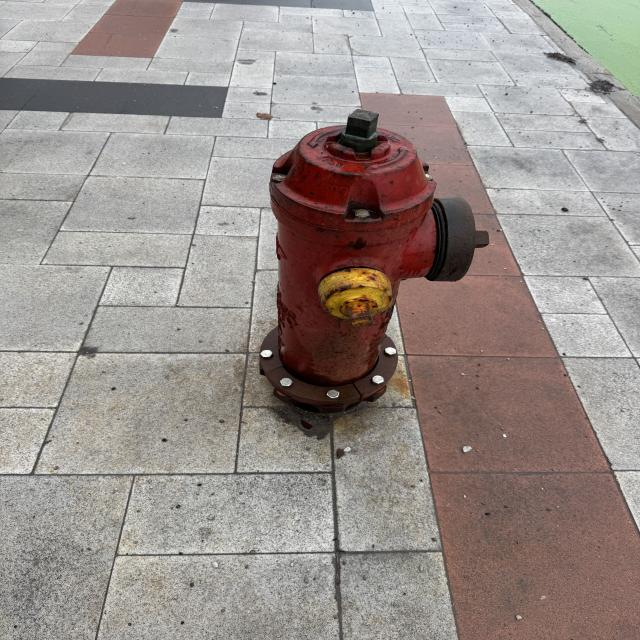Fire hydrant: (255, 109, 491, 415)
